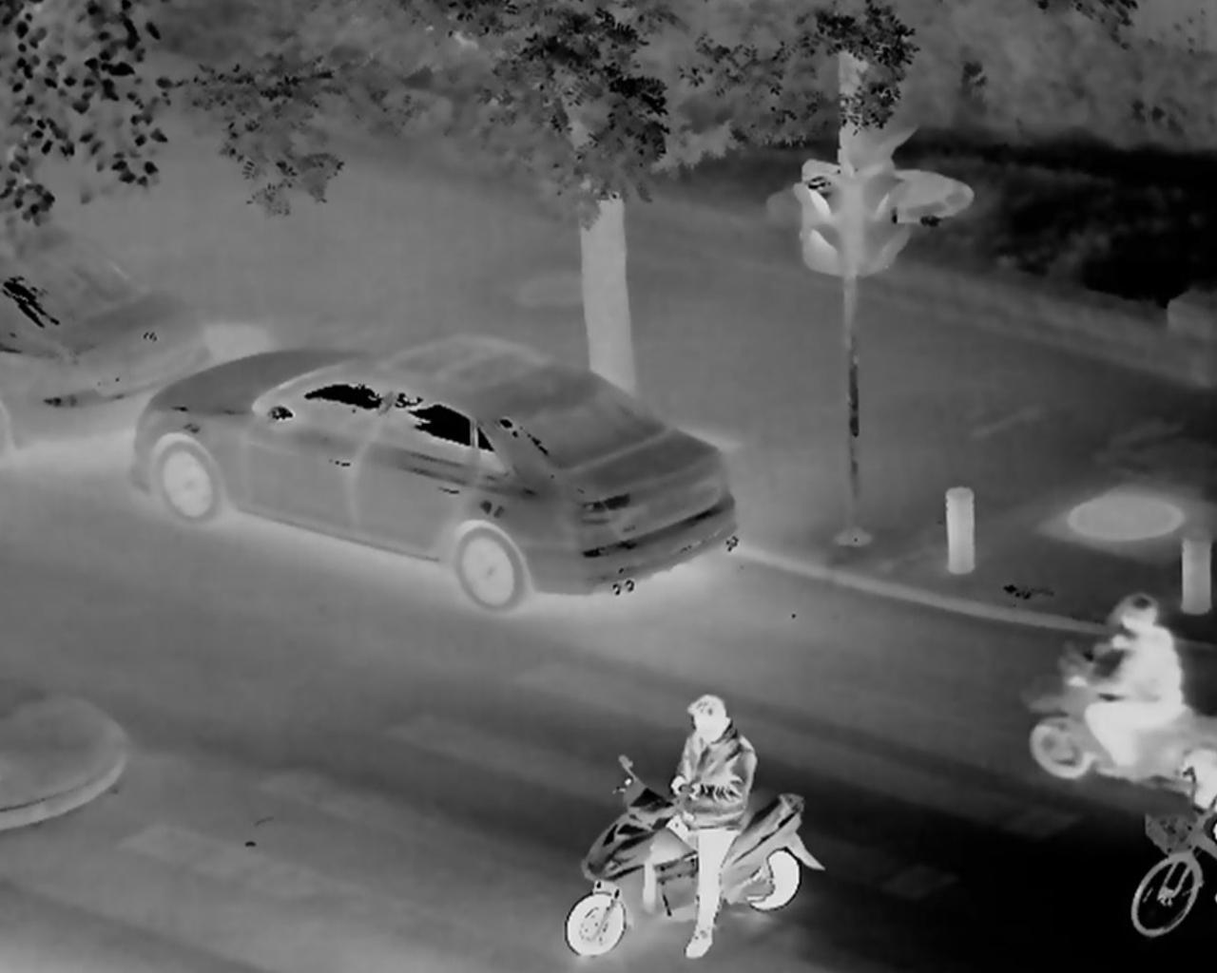person: (646, 691, 763, 959), (1066, 594, 1201, 775)
